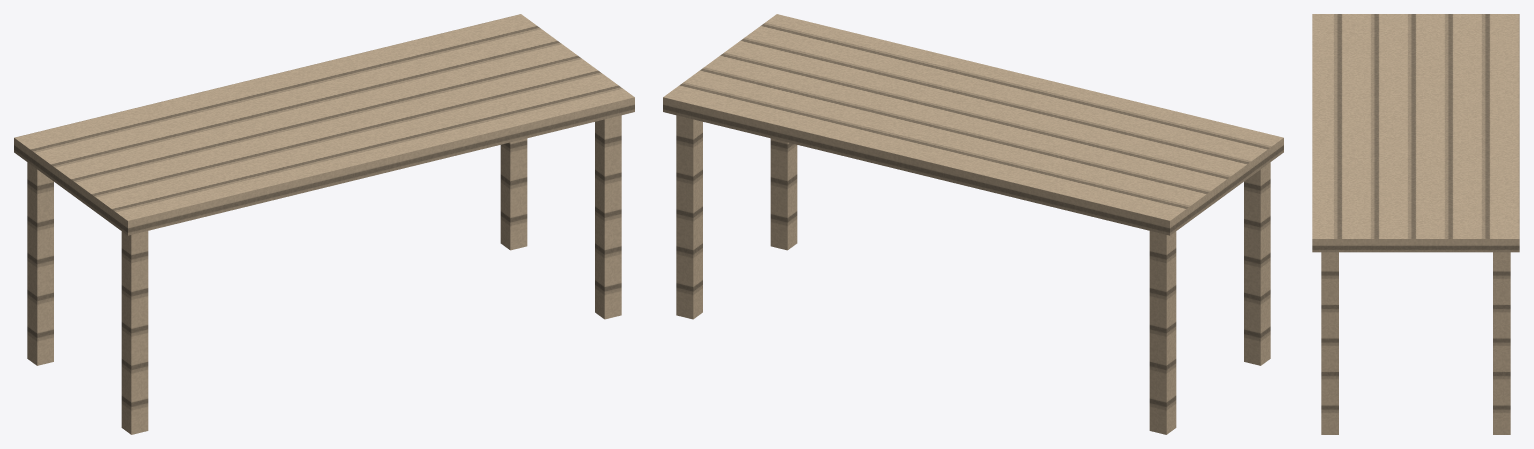
Rendered from cafeteria_table_bench.glb.
The picture shows the model from 3 angles, left to right: view 1: azimuth 30°, elevation 25°; view 2: azimuth 150°, elevation 25°; view 3: azimuth 270°, elevation 25°; orthographic projection. The views are drawn at different scales.
Visible parts, largest first — view 1: cafeteria_table_bench-col; view 2: cafeteria_table_bench-col; view 3: cafeteria_table_bench-col.
Boxes of the visible parts, bbox=[...] form: cafeteria_table_bench-col: bbox=[14, 14, 634, 434]; cafeteria_table_bench-col: bbox=[663, 14, 1283, 434]; cafeteria_table_bench-col: bbox=[1312, 14, 1519, 434].
Bounding box in the file's own units: 1.8 × 0.745 × 0.7.
1 material, 1 textured.
